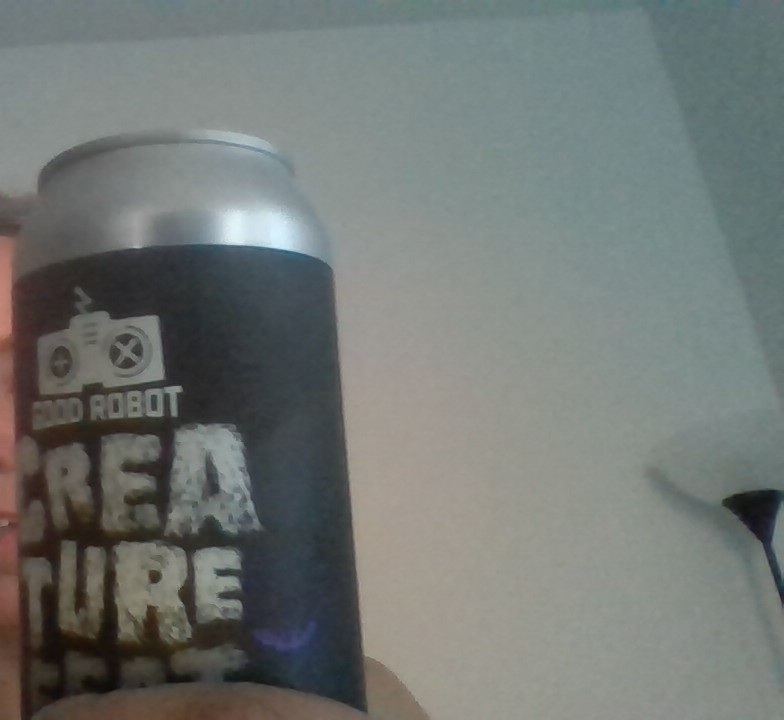Good Robot: (29, 286, 176, 398)
